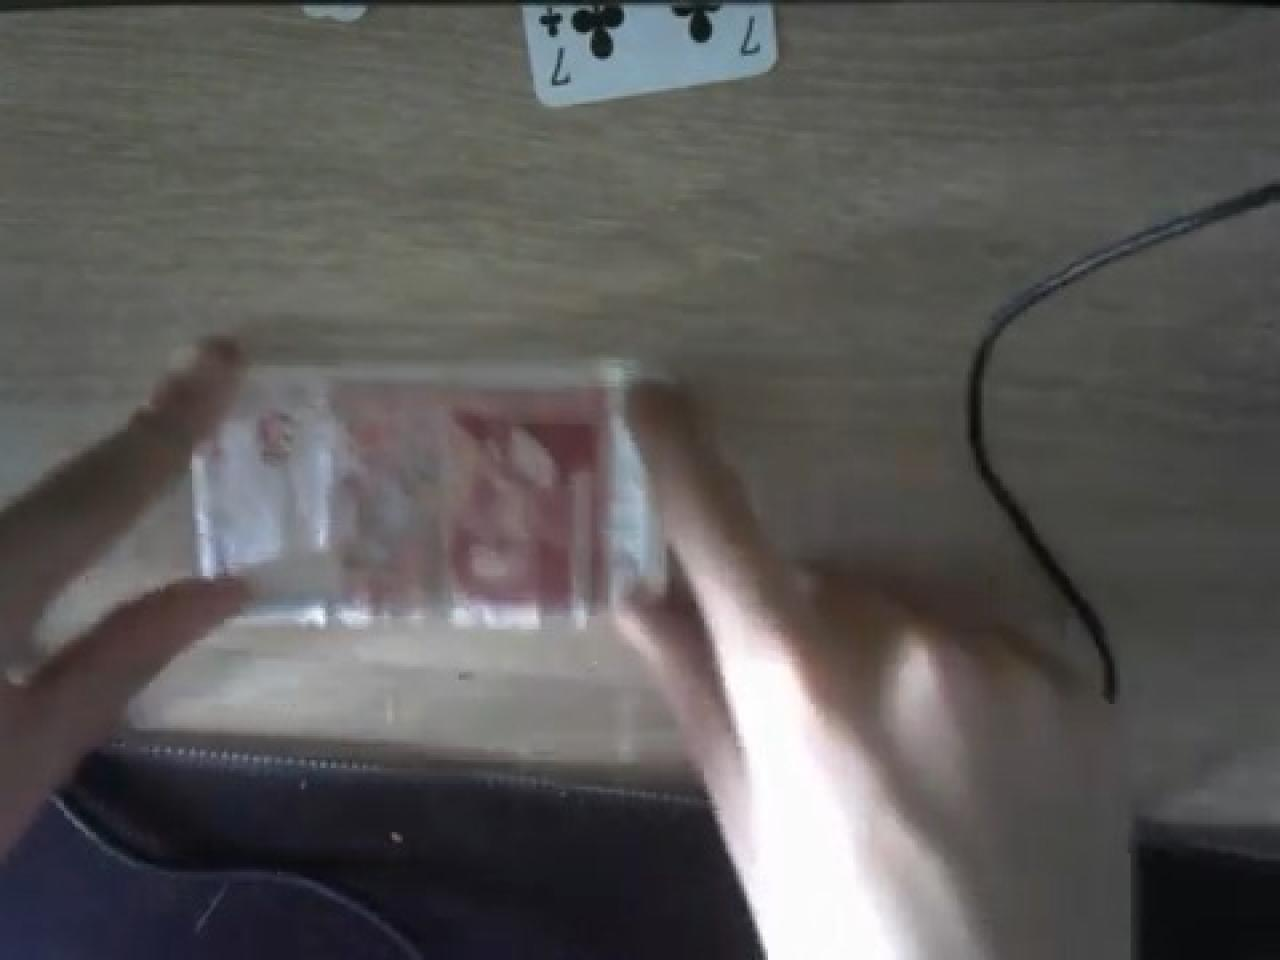5leva: (195, 373, 611, 632), (376, 386, 603, 613)
